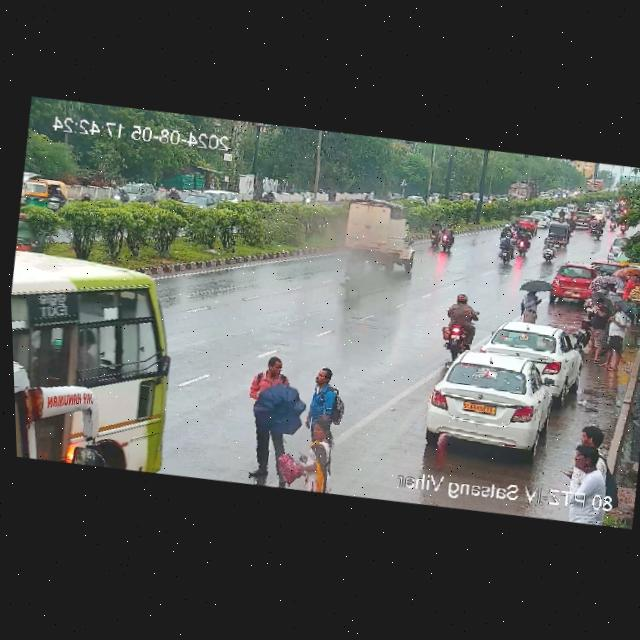bus: (9, 237, 194, 477)
car: (420, 348, 566, 463), (477, 316, 583, 391), (545, 258, 599, 306), (19, 175, 68, 213), (545, 220, 576, 251), (570, 210, 592, 230), (519, 215, 539, 236), (530, 211, 548, 227)
motorcycle: (435, 291, 485, 358), (492, 229, 521, 267), (435, 221, 460, 255), (511, 232, 532, 257), (427, 217, 443, 248), (542, 232, 558, 260), (587, 218, 606, 239), (50, 189, 67, 210), (503, 219, 519, 232), (558, 208, 567, 223), (546, 208, 554, 220)
person: (244, 352, 296, 473), (294, 418, 339, 494), (596, 298, 635, 374), (304, 361, 342, 434), (568, 443, 612, 501), (587, 297, 613, 362), (577, 422, 618, 463), (519, 288, 544, 320), (620, 272, 640, 299)
truck: (334, 195, 426, 281)
